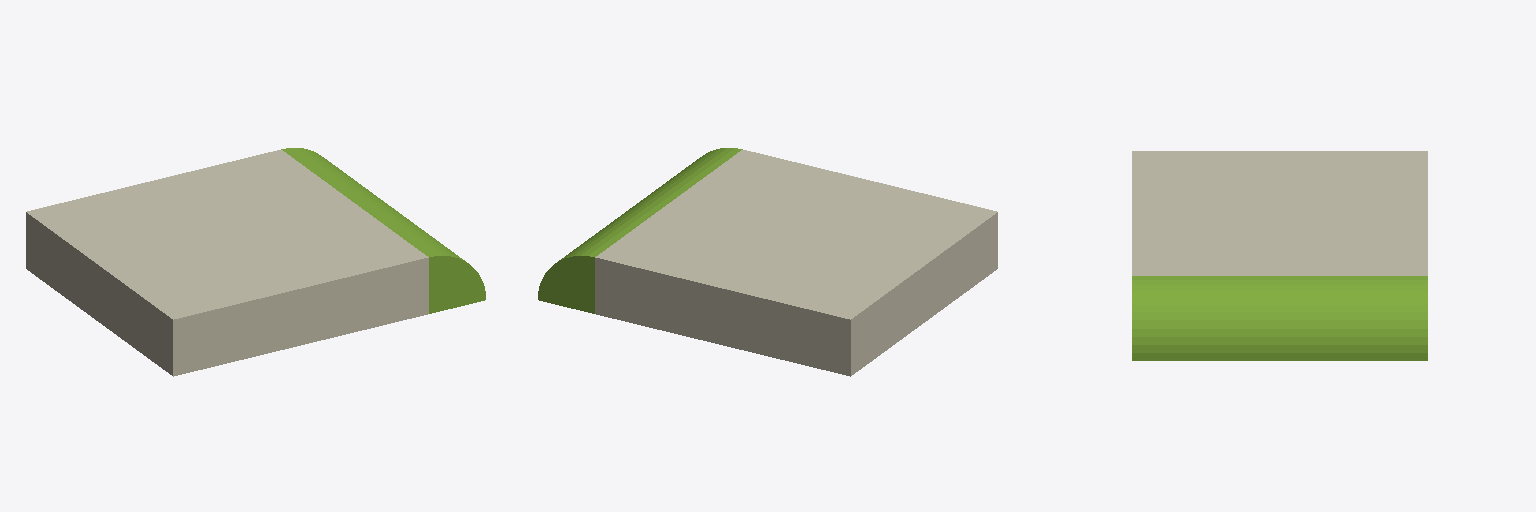
Rendered from building_011.obj.
3 views of the same model, side by side, from view 1: azimuth 30°, elevation 25°; view 2: azimuth 150°, elevation 25°; view 3: azimuth 270°, elevation 25° (orthographic).
Parts seen in each view (by area): view 1: building_011; view 2: building_011; view 3: building_011.
Boxes of the visible parts, <box> form: building_011: <box>26,148,485,376</box>; building_011: <box>538,148,997,376</box>; building_011: <box>1132,151,1427,360</box>.
Size of the model in its own units: 1.23 by 0.2125 by 1.